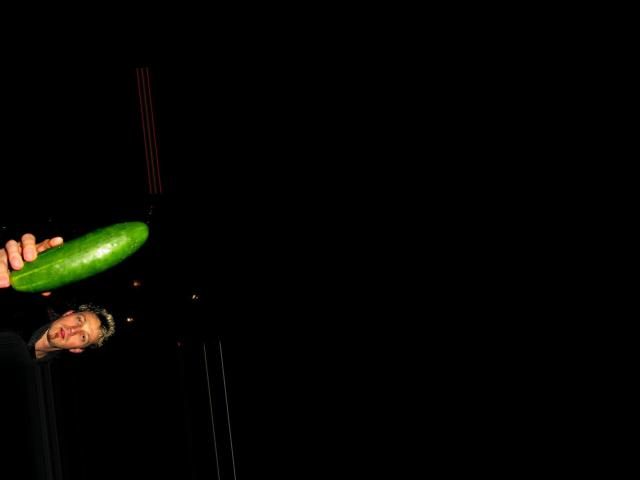cucumber: (6, 219, 153, 293)
